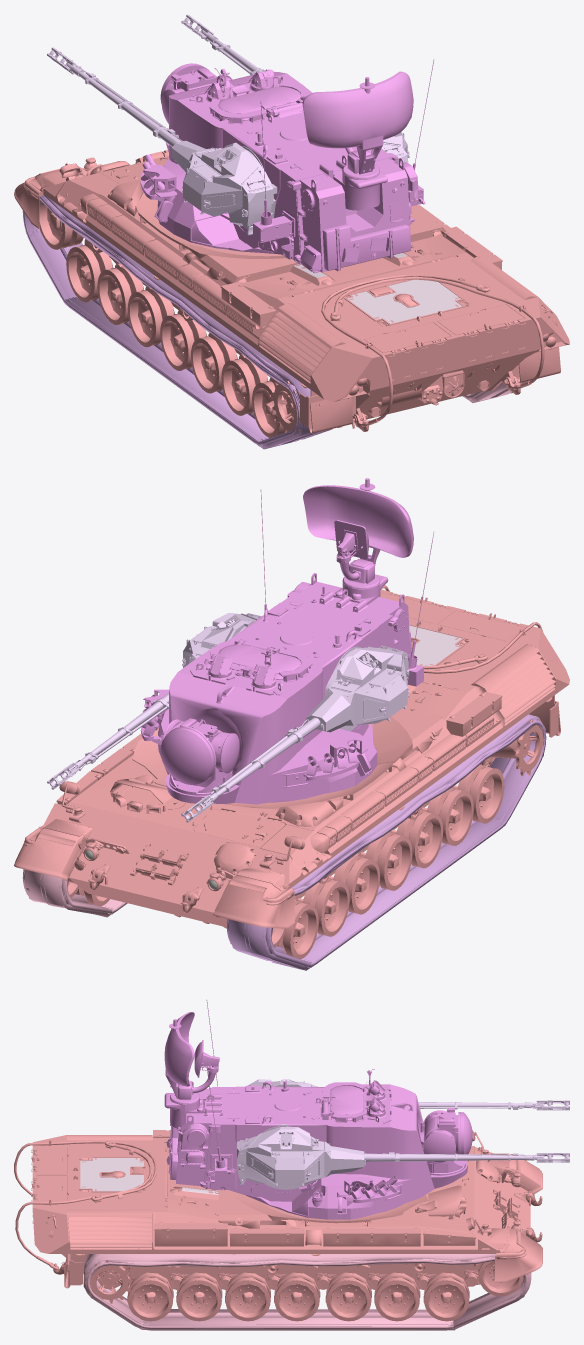
The model's file is gepard.glb.
3 views of the same model, one above another, from view 1: azimuth 30°, elevation 25°; view 2: azimuth 150°, elevation 25°; view 3: azimuth 270°, elevation 25° (orthographic). The views are drawn at different scales.
Parts seen in each view (by area): view 1: V_gepard__Body_1, V_gepard__Turret_1, V_gepard__Body_2, V_gepard__Body_5, V_gepard__Body_4, V_gepard__Gun_1, V_gepard__Body_8, V_gepard__Body_3, V_gepard__W03_1, V_gepard__W02_1, V_gepard__W01_1, V_gepard__W05_1 (+5 smaller); view 2: V_gepard__Body_1, V_gepard__Turret_1, V_gepard__Body_2, V_gepard__Body_4, V_gepard__Body_5, V_gepard__Gun_1, V_gepard__Body_3, V_gepard__Body_6, V_gepard__W04_1, V_gepard__W03_1, V_gepard__W02_1, V_gepard__W07_1 (+5 smaller); view 3: V_gepard__Turret_1, V_gepard__Body_1, V_gepard__Body_2, V_gepard__Body_6, V_gepard__Gun_1, V_gepard__Body_4, V_gepard__Body_3, V_gepard__Body_8, V_gepard__W14_1, V_gepard__W19_1, V_gepard__W15_1, V_gepard__W17_1 (+5 smaller).
Boxes of the visible parts, x1,y1,x2,y2 form: V_gepard__Body_1: (25,151,569,433); V_gepard__Turret_1: (140,59,434,273); V_gepard__Body_2: (83,150,540,427); V_gepard__Body_5: (22,194,332,449); V_gepard__Body_4: (160,63,413,210); V_gepard__Gun_1: (47,14,409,235); V_gepard__Body_8: (294,253,461,323); V_gepard__Body_3: (14,174,524,381); V_gepard__W03_1: (127,289,174,347); V_gepard__W02_1: (97,266,143,325); V_gepard__W01_1: (66,244,113,302); V_gepard__W05_1: (190,335,237,393); V_gepard__Body_1: (25,585,569,928); V_gepard__Turret_1: (140,489,434,804); V_gepard__Body_2: (82,589,556,891); V_gepard__Body_4: (160,478,413,795); V_gepard__Body_5: (226,714,546,970); V_gepard__Gun_1: (47,613,409,822); V_gepard__Body_3: (14,593,457,928); V_gepard__Body_6: (22,869,127,917); V_gepard__W04_1: (365,832,412,890); V_gepard__W03_1: (333,855,380,914); V_gepard__W02_1: (303,878,349,936); V_gepard__W07_1: (457,765,504,823); V_gepard__Turret_1: (166,999,467,1219); V_gepard__Body_1: (14,1130,542,1288); V_gepard__Body_2: (32,1130,520,1284); V_gepard__Body_6: (83,1249,531,1330); V_gepard__Gun_1: (237,1079,569,1189); V_gepard__Body_4: (164,1012,472,1175); V_gepard__Body_3: (34,1160,542,1289); V_gepard__Body_8: (80,1158,218,1194); V_gepard__W14_1: (423,1272,469,1321); V_gepard__W19_1: (176,1272,222,1321); V_gepard__W15_1: (374,1272,420,1321); V_gepard__W17_1: (274,1272,320,1321).
Bounding box in the file's own units: 9.13 × 11.27 × 21.5.
